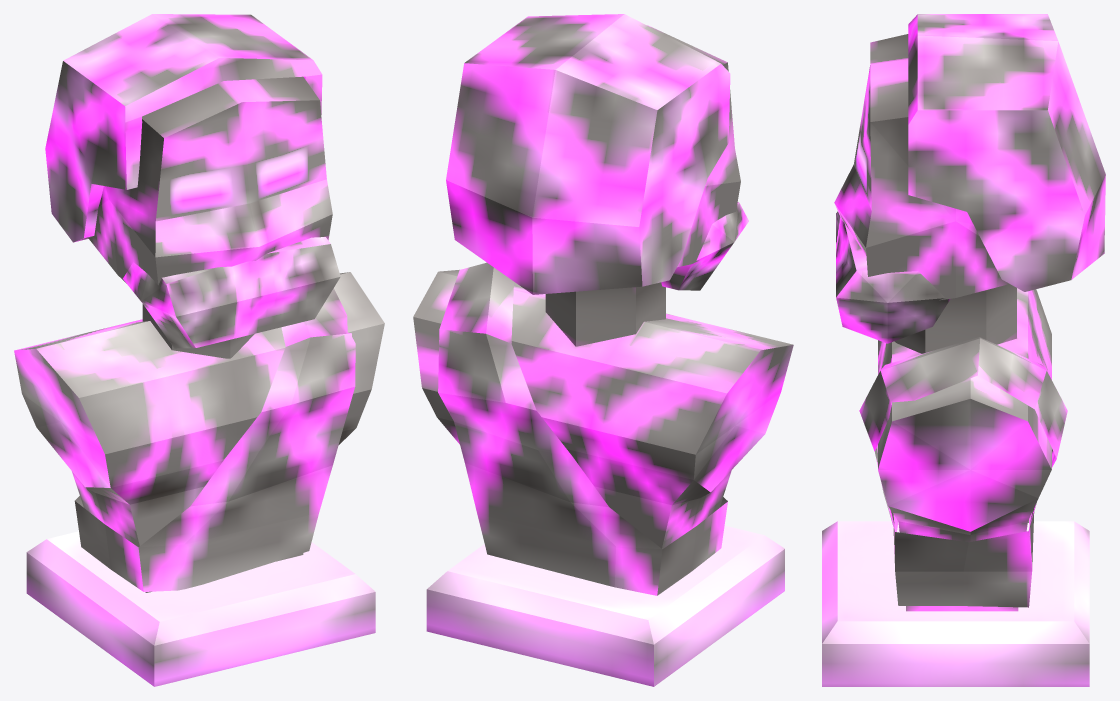
Rendered from bust.fbx.
3 renders of one model, left to right at view 1: azimuth 30°, elevation 25°; view 2: azimuth 150°, elevation 25°; view 3: azimuth 270°, elevation 25°, orthographic. The views are drawn at different scales.
Visible parts, largest first — view 1: Male; view 2: Male; view 3: Male.
Part boxes in pixels (box(x1,y1,x2,y2)): Male: box(14, 14, 384, 686); Male: box(413, 14, 793, 686); Male: box(822, 14, 1105, 686).
Size of the model in its own units: 88.8 by 153 by 66.3.
Materials: 1 (1 with a texture image).
